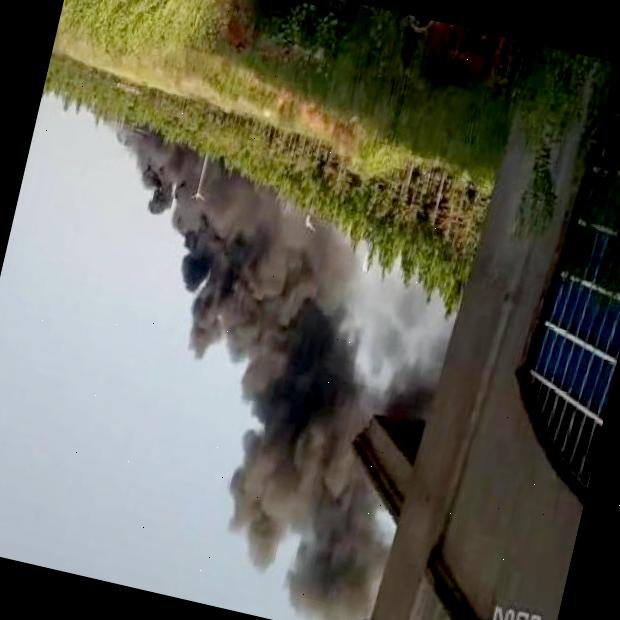smoke: (211, 412, 316, 574), (291, 386, 371, 539), (239, 306, 335, 427), (118, 134, 232, 234), (272, 525, 382, 620), (178, 253, 265, 373), (272, 214, 354, 319), (215, 178, 303, 269)
